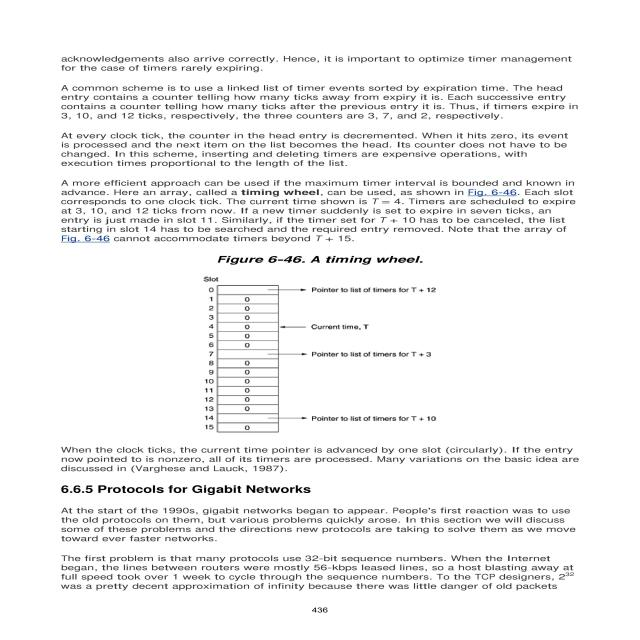diagram: (147, 248, 557, 443)
